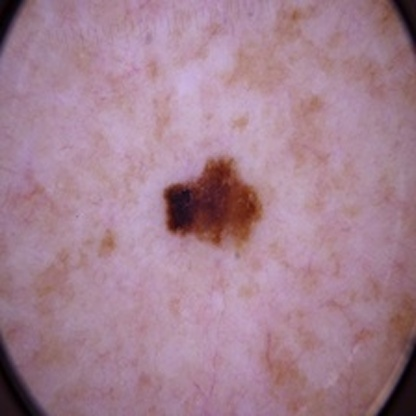benign: (155, 163, 276, 242)
